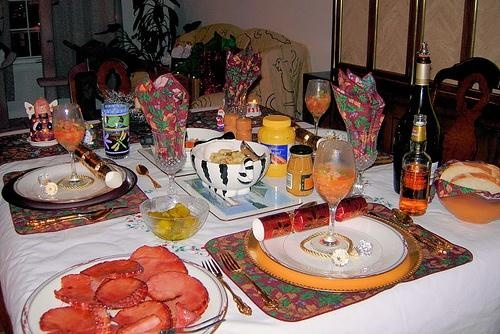bottle: (395, 46, 443, 198), (398, 114, 434, 219)
chair: (163, 22, 309, 113), (430, 57, 500, 171), (64, 58, 174, 119)
diningtable: (5, 99, 497, 334)
pottedplant: (93, 1, 194, 60)
